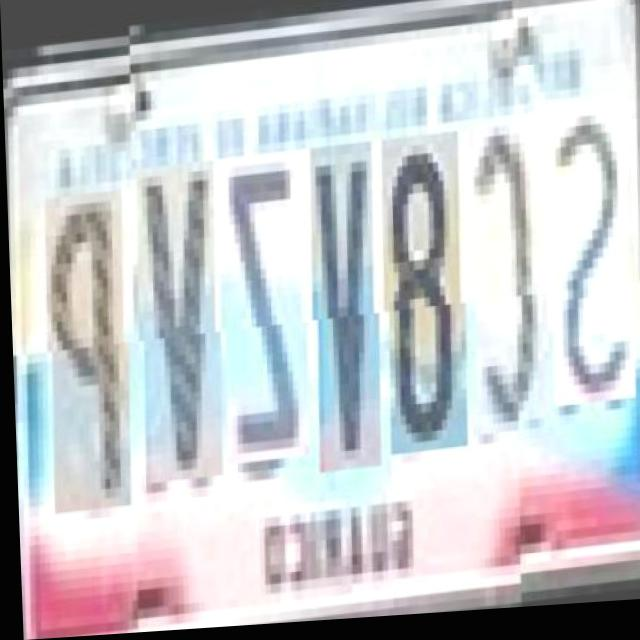8: (375, 136, 467, 458)
c: (462, 126, 549, 440)
p: (38, 176, 130, 499)
s: (539, 110, 635, 424)
v: (130, 158, 221, 481), (304, 143, 380, 474)
z: (212, 150, 308, 462)
